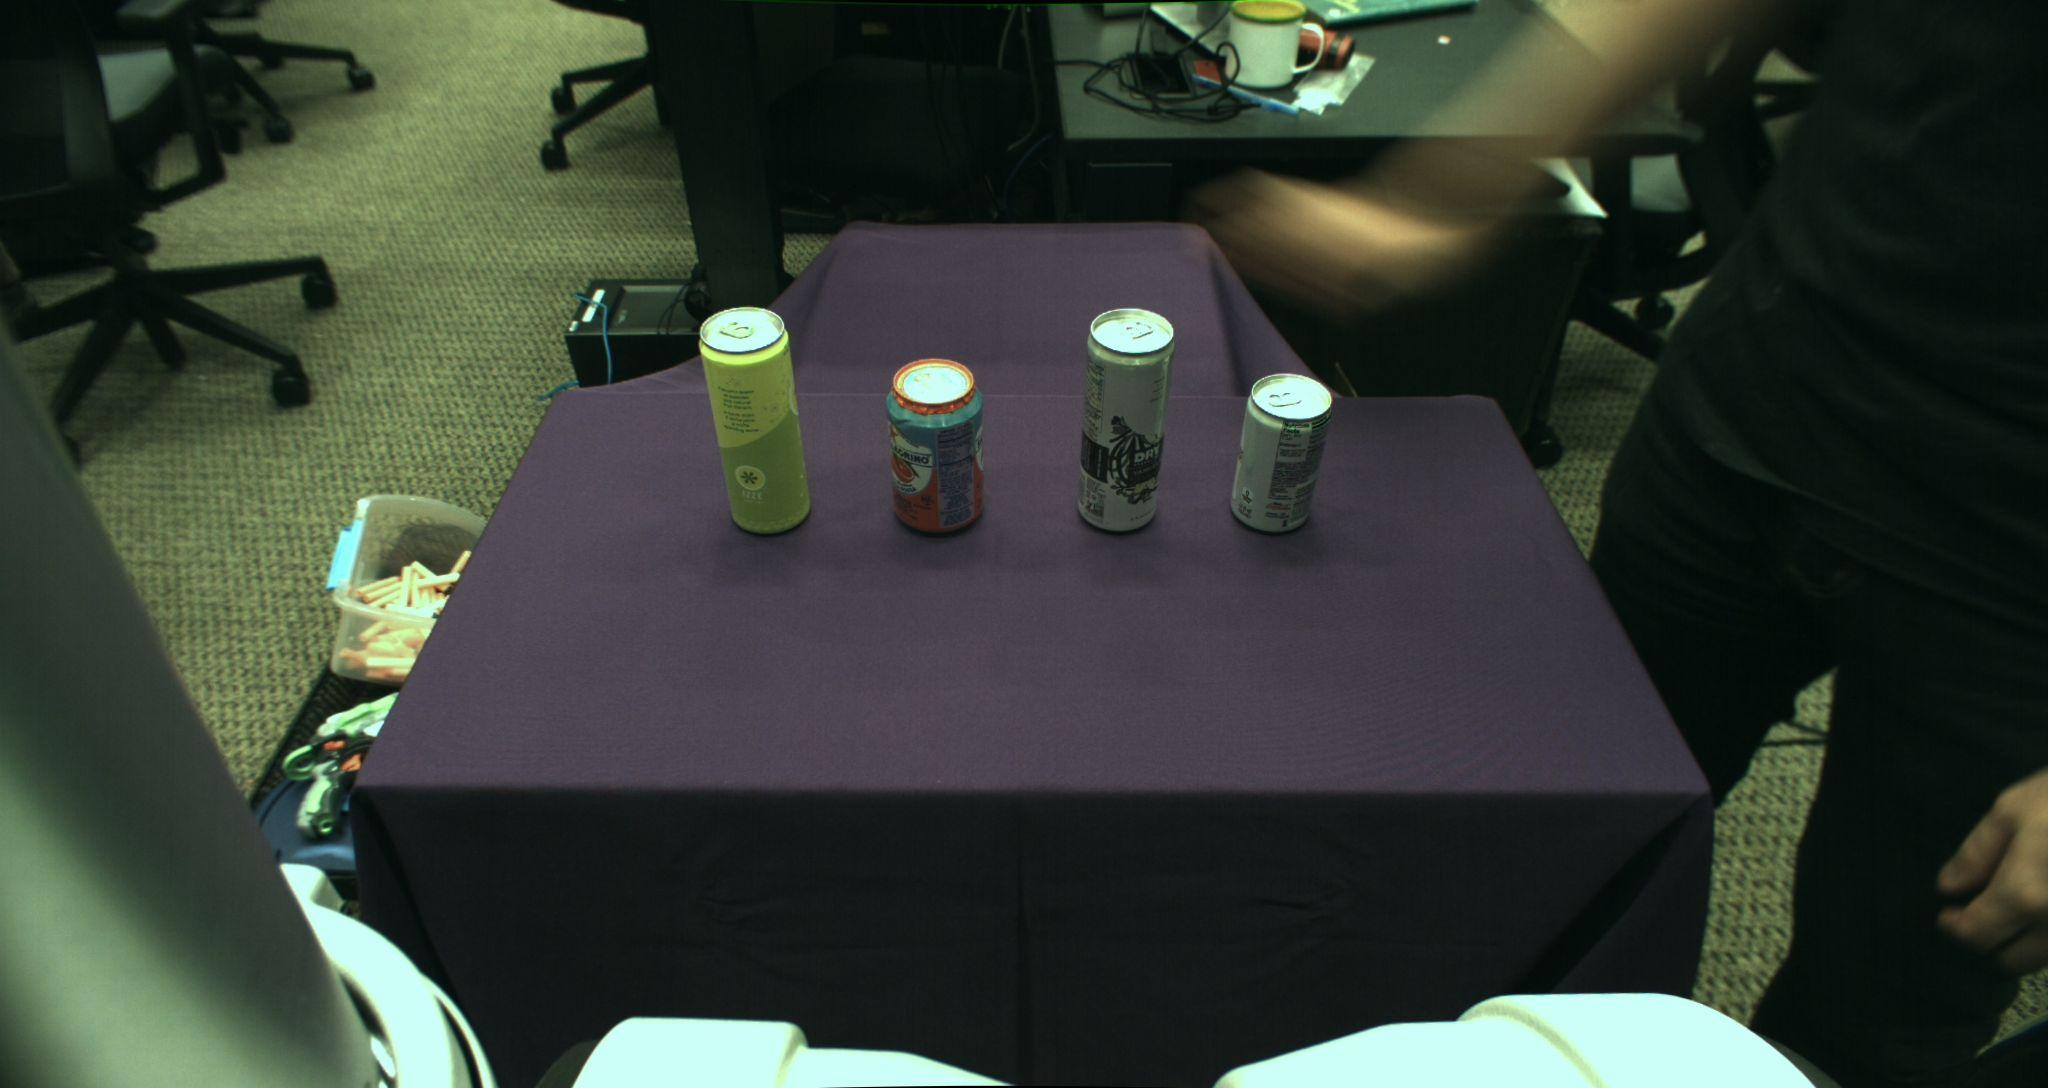can_diet_coke_small: (1230, 373, 1331, 532)
can_dry_sparkling_vanilla_bean: (1075, 308, 1174, 532)
can_izze_fusions_lemon_lime: (698, 306, 811, 537)
can_sanpellegrino_blood_orange: (887, 358, 986, 534)
